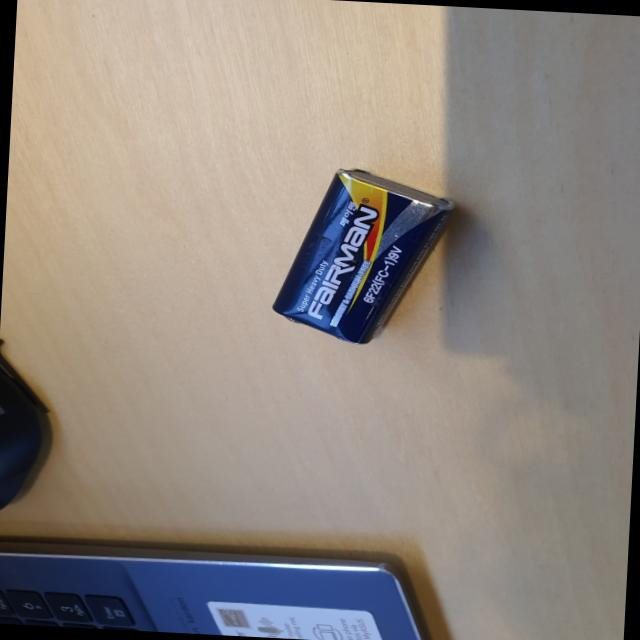battery-etc-etc: (256, 157, 480, 358)
